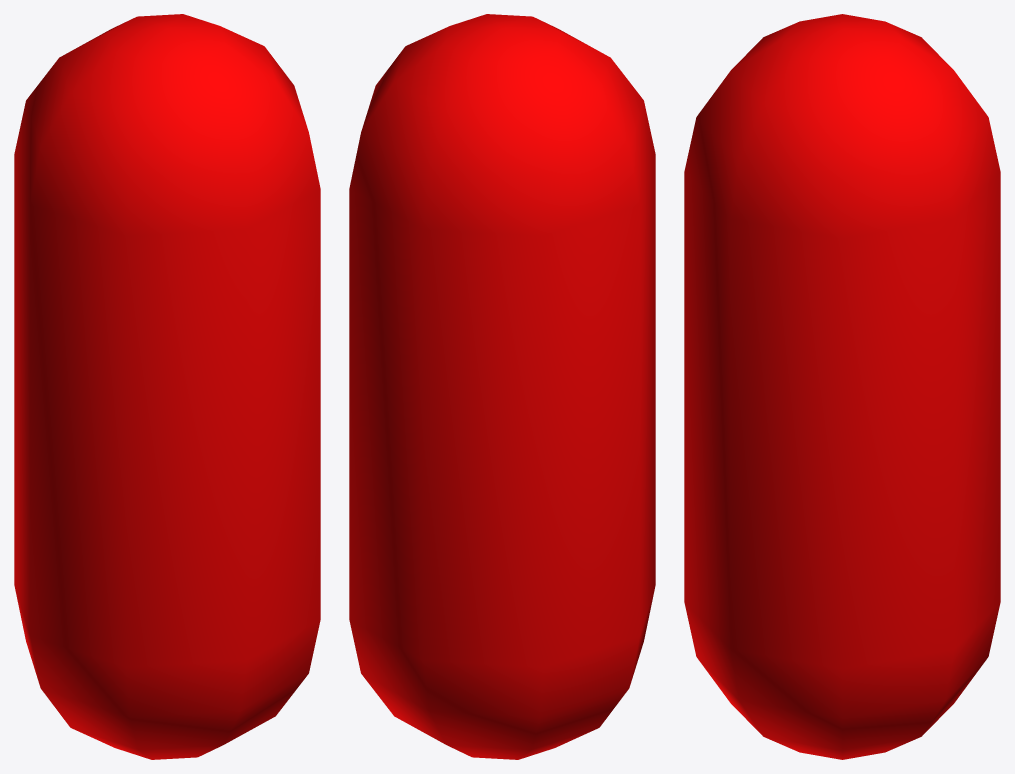
The model's file is piluleRouge.FBX.
3 renders of one model, left to right at view 1: azimuth 30°, elevation 25°; view 2: azimuth 150°, elevation 25°; view 3: azimuth 270°, elevation 25°, orthographic.
Parts seen in each view (by area): view 1: piluleRouge; view 2: piluleRouge; view 3: piluleRouge.
Part boxes in pixels (<box>): piluleRouge: <box>14,14,320,759</box>; piluleRouge: <box>349,14,655,759</box>; piluleRouge: <box>684,14,1000,759</box>.
Bounding box in the file's own units: 7.87 × 19.69 × 7.87.
